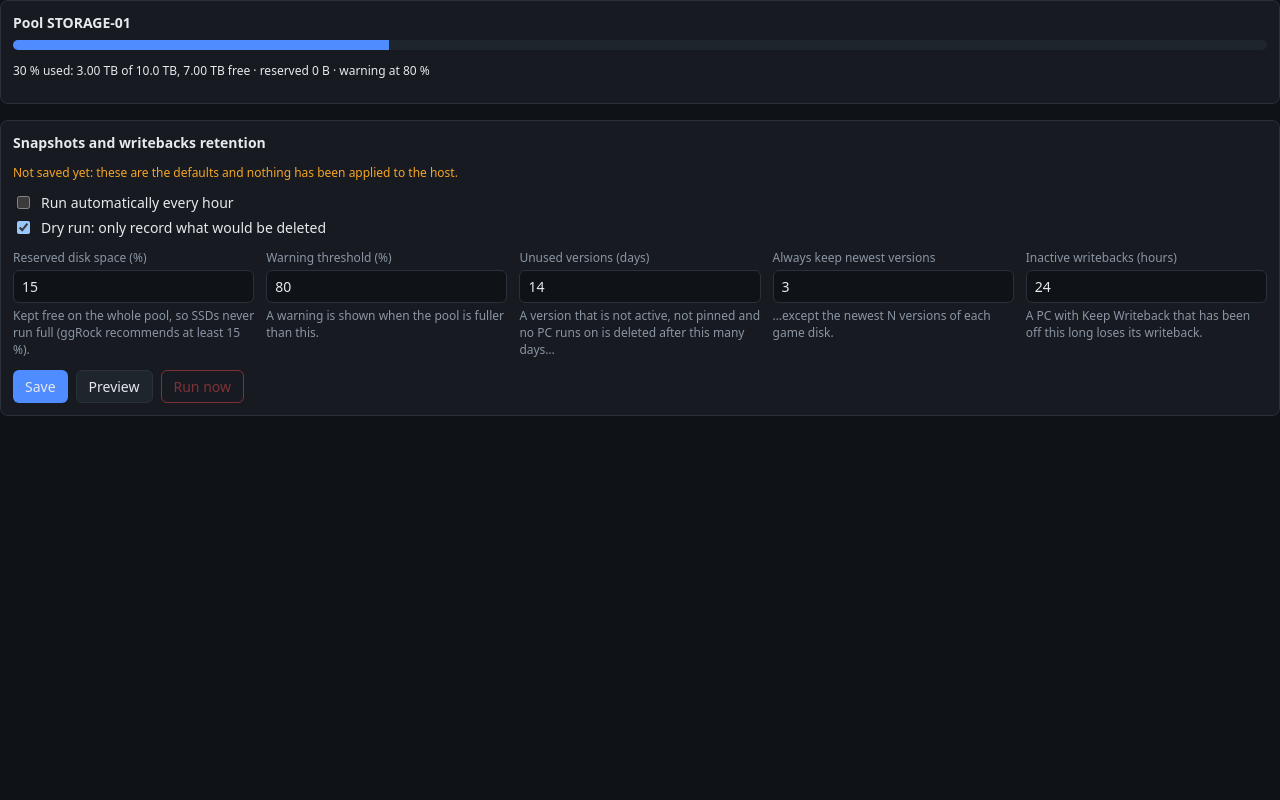
SettingsPage › previews what would be deleted without deleting
Click the button "Preview": (114, 386) [76,370,152,403]
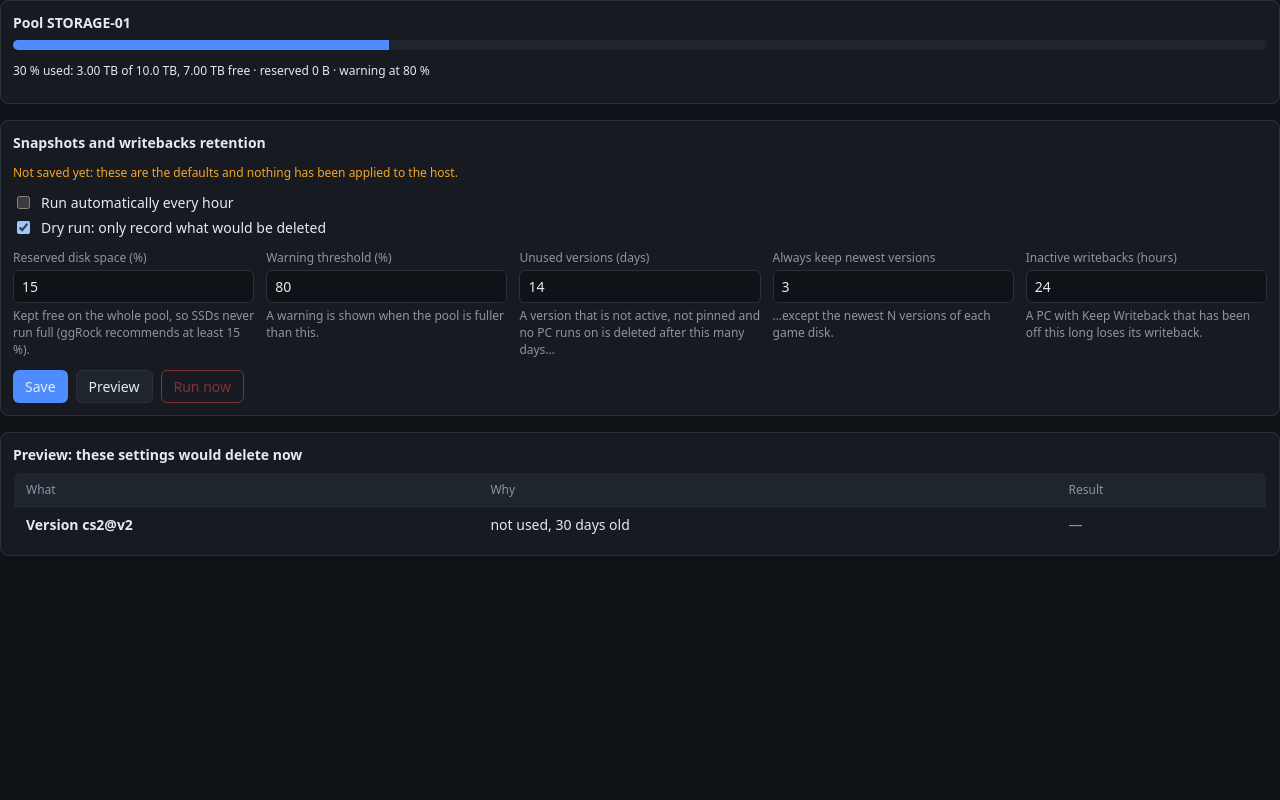
Result: the text "Version cs2@v2" is shown at [14,506,478,542]
